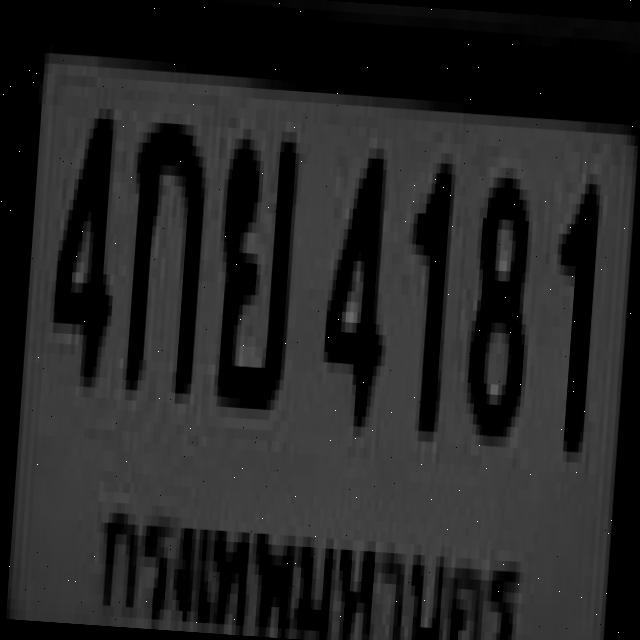1: (396, 156, 452, 427), (544, 172, 597, 442)
10GorGai: (117, 110, 205, 384)
4: (315, 134, 392, 416), (45, 95, 118, 377)
43YorYak: (209, 127, 297, 400)
8: (461, 166, 532, 427)
Bangkok: (91, 489, 528, 640)
